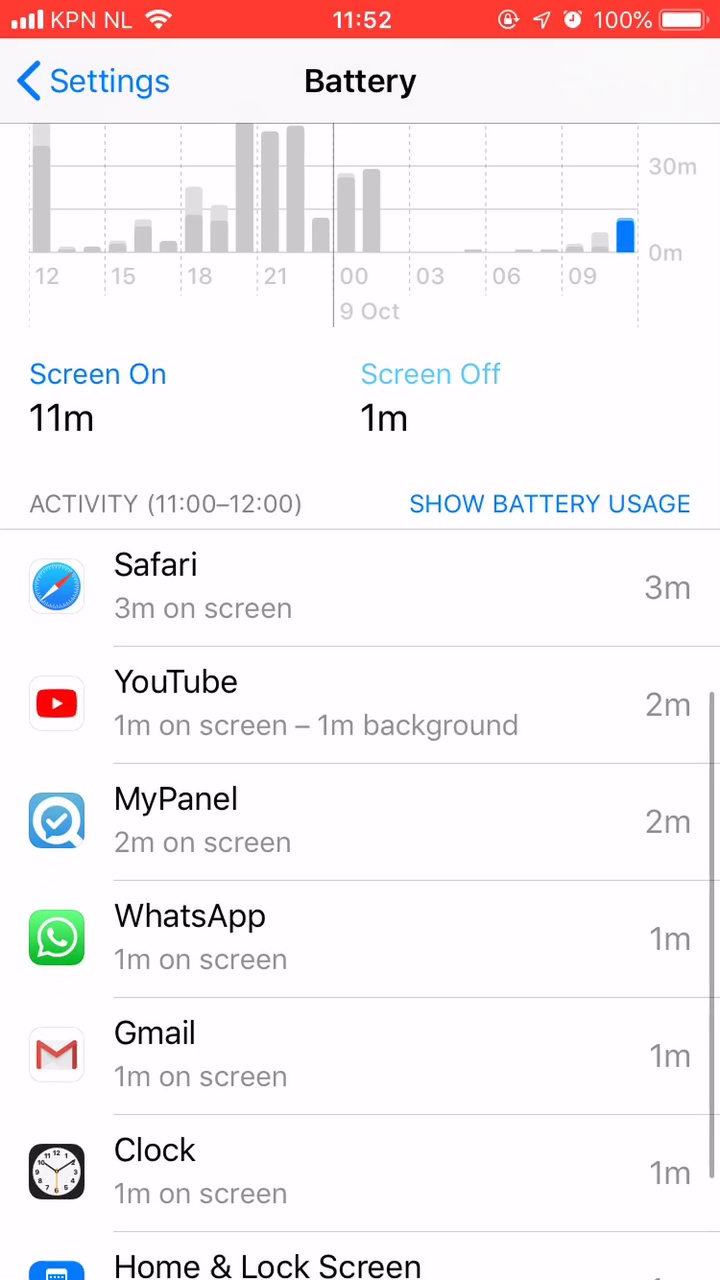activity: (30, 468, 338, 520)
app: (24, 540, 710, 633), (21, 651, 707, 744), (17, 772, 703, 865), (18, 886, 704, 979), (16, 1007, 702, 1100), (20, 1126, 706, 1219)
